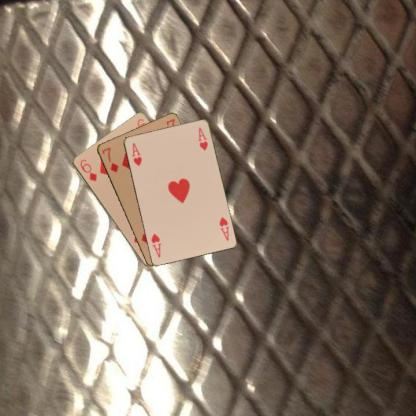6d: (76, 156, 98, 182)
7d: (100, 144, 120, 173)
Ah: (216, 214, 231, 242), (129, 140, 143, 167)
